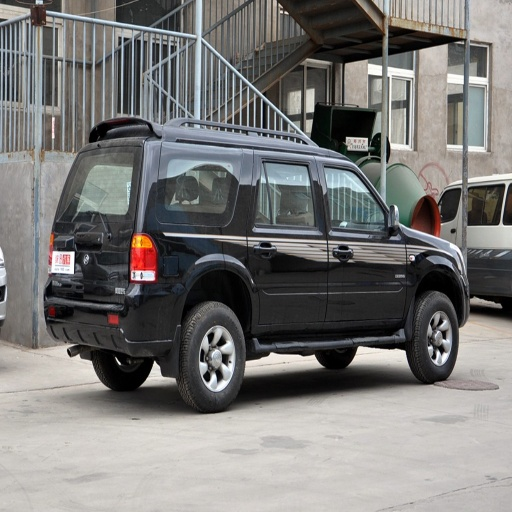_background_: (53, 284, 176, 355)
back_bumper: (67, 147, 136, 204)
back_left_light: (225, 143, 327, 326)
back_right_door: (129, 232, 156, 283)
front_left_light: (317, 154, 407, 322)
tailgate: (57, 214, 132, 305)
trunk: (180, 301, 246, 412), (409, 292, 460, 381), (95, 359, 148, 390), (319, 347, 352, 369)
